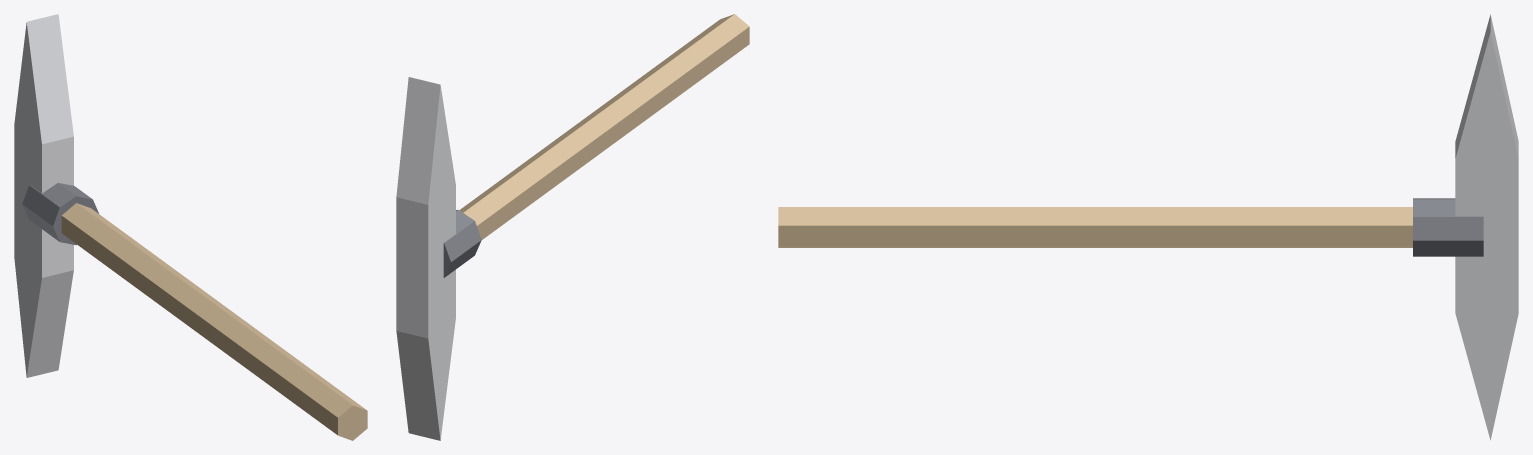
The model's file is iron_pick_held.gltf.
3 views of the same model, side by side, from view 1: azimuth 30°, elevation 25°; view 2: azimuth 150°, elevation 25°; view 3: azimuth 270°, elevation 25° (orthographic). The views are drawn at different scales.
Visible parts, largest first — view 1: furnace_iron_pick_held; view 2: furnace_iron_pick_held; view 3: furnace_iron_pick_held.
Part boxes in pixels (<box>): furnace_iron_pick_held: <box>14,14,367,440</box>; furnace_iron_pick_held: <box>396,14,749,440</box>; furnace_iron_pick_held: <box>778,14,1518,440</box>.
Bounding box in the file's own units: 0.044 × 0.32 × 0.525.
